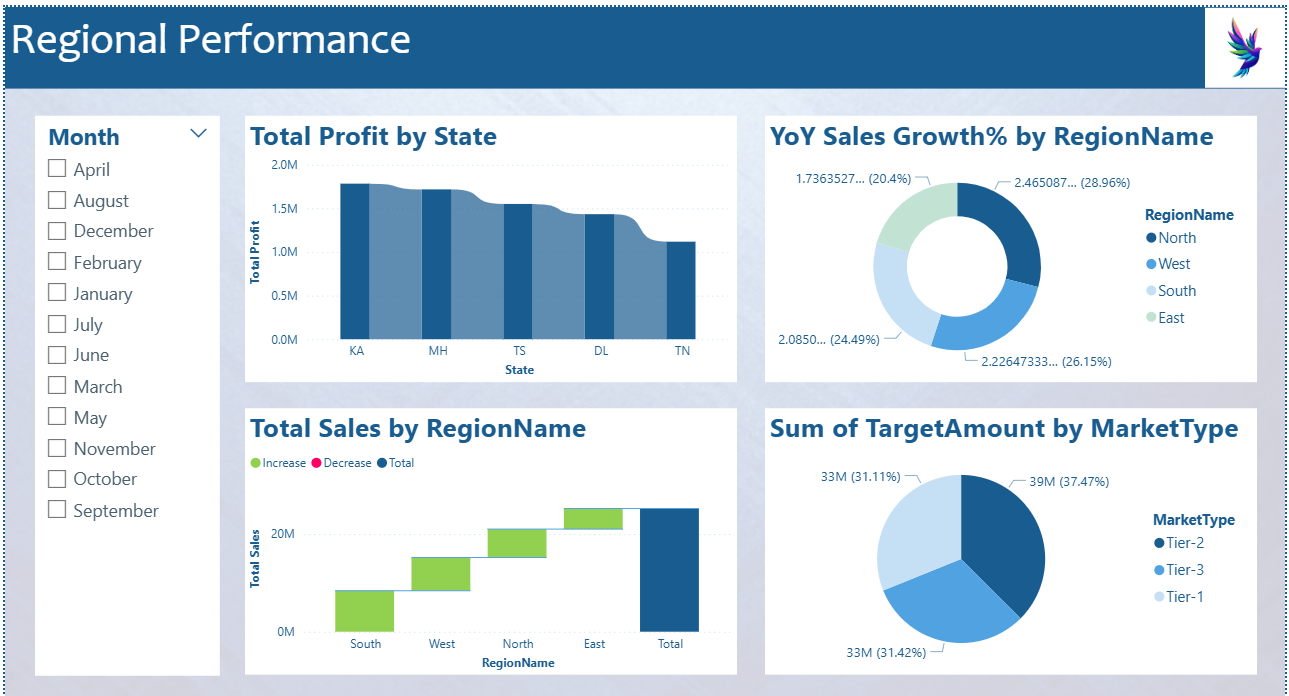

Layout of this report page (visuals, bound fields, positions):
{"tool":"powerbi","page":{"name":"Regional Performance","canvas":[1280,720],"ordinal":4},"visuals":[{"type":"textbox","box":[0,0,1280,81.2],"z":0},{"type":"image","box":[1200,0,80,81.2],"z":1000},{"type":"donutChart","fields":{"Category":["Dim_Region.RegionName"],"Y":["Dim_Customer.YoY Sales Growth%"]},"box":[760,108.3,491.7,266.7],"z":2000},{"type":"waterfallChart","fields":{"Category":["Dim_Region.RegionName"],"Y":["Fact_SalesTargets.Total Sales"]},"box":[240,401.7,491.7,266.7],"z":3000},{"type":"ribbonChart","fields":{"Category":["Dim_Customer.State"],"Y":["Dim_Customer.Total Profit"]},"box":[240,108.3,491.7,266.7],"z":4000},{"type":"pieChart","fields":{"Category":["Dim_Region.MarketType"],"Y":["Sum(Fact_SalesTargets.TargetAmount)"]},"box":[760,401.7,491.7,266.7],"z":5000},{"type":"slicer","fields":{"Values":["Dim_Date.Month"]},"box":[30,108.3,185,560],"z":6000}]}

Visuals, with their boxes on the page's 1280x720 design canvas (x1, y1, x2, y2). These are canvas units, not pixel positions in the 1289x696 screenshot, which may show the page scaled, cropped or inside an application window:
textbox: [0, 0, 1280, 81]
image: [1200, 0, 1280, 81]
donutChart - Dim_Region.RegionName x Dim_Customer.YoY Sales Growth%: [760, 108, 1252, 375]
waterfallChart - Dim_Region.RegionName x Fact_SalesTargets.Total Sales: [240, 402, 732, 668]
ribbonChart - Dim_Customer.State x Dim_Customer.Total Profit: [240, 108, 732, 375]
pieChart - Dim_Region.MarketType x Sum(Fact_SalesTargets.TargetAmount): [760, 402, 1252, 668]
slicer - Dim_Date.Month: [30, 108, 215, 668]
